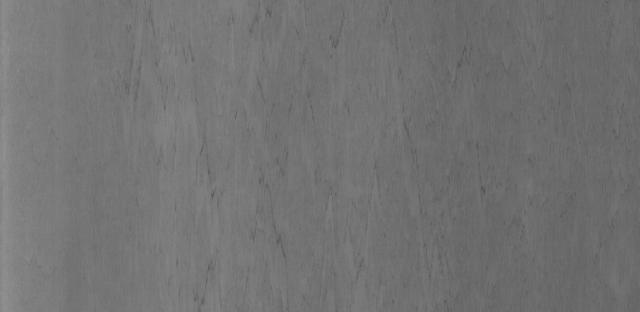silk_spot: (117, 8, 467, 282)
